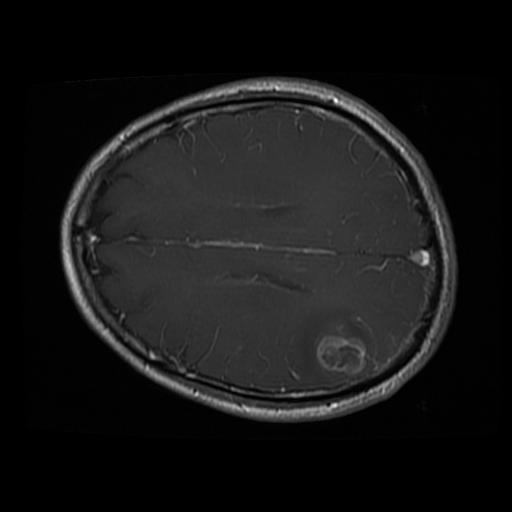glioma: (282, 311, 374, 387)
